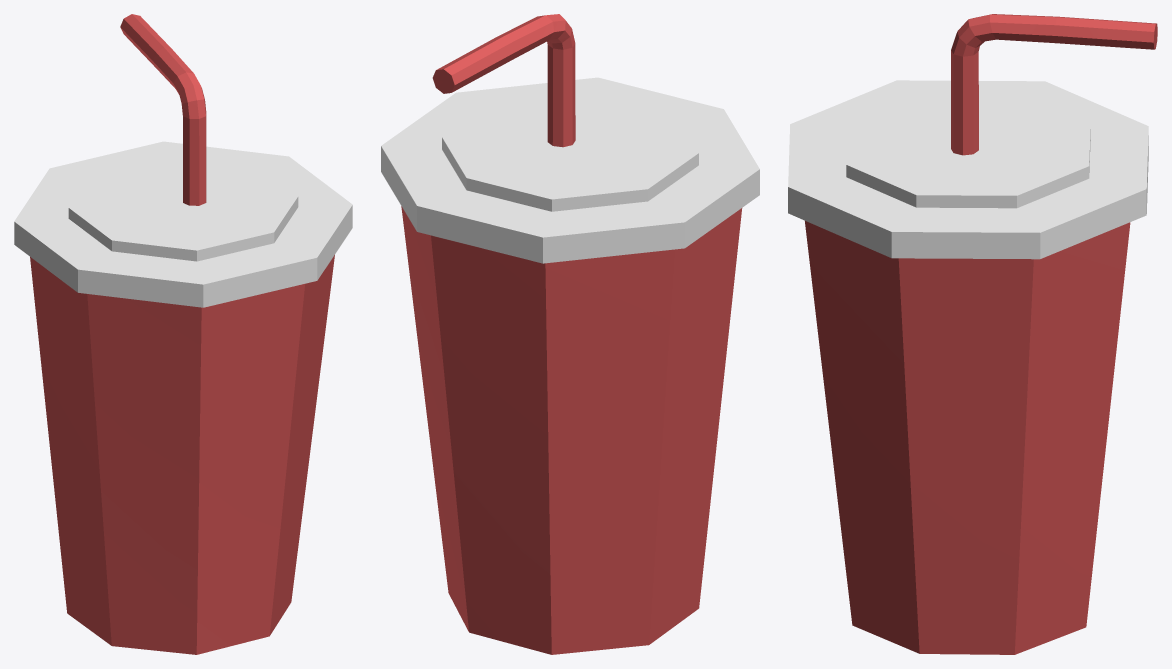
The model's file is Soft_Drink.glb.
The picture shows the model from 3 angles, left to right: view 1: azimuth 30°, elevation 25°; view 2: azimuth 150°, elevation 25°; view 3: azimuth 270°, elevation 25°; orthographic projection. The views are drawn at different scales.
Parts seen in each view (by area): view 1: Soft_Drink; view 2: Soft_Drink; view 3: Soft_Drink.
Part boxes in pixels (box(x1,y1,x2,y2)): Soft_Drink: box(14, 14, 352, 654); Soft_Drink: box(381, 14, 759, 654); Soft_Drink: box(788, 14, 1157, 654).
Size of the model in its own units: 0.1723 by 0.3161 by 0.1766.
Materials: 1 (1 with a texture image).
